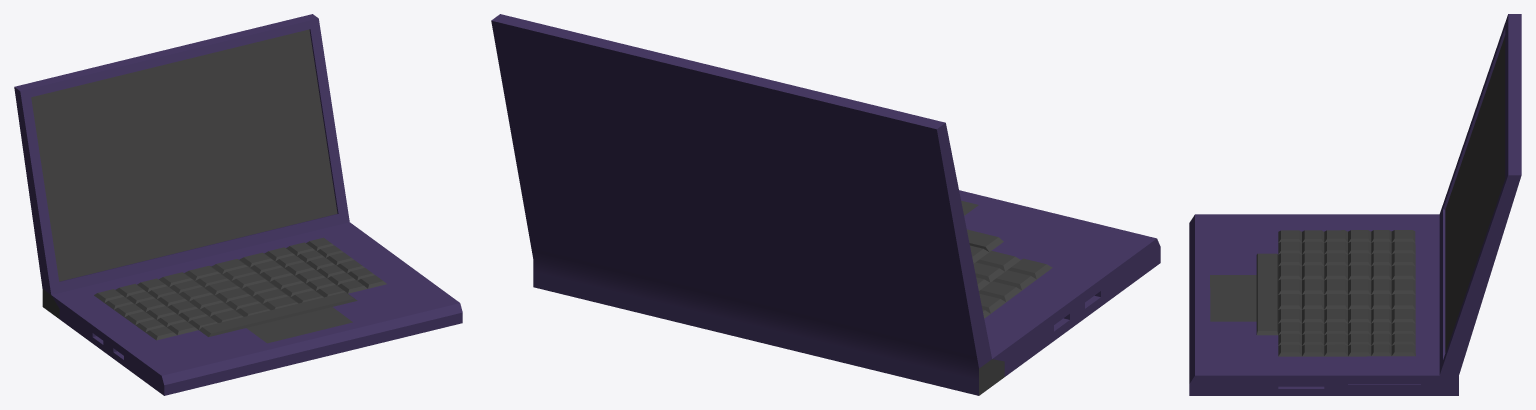
The model's file is laptop.fbx.
3 views of the same model, side by side, from view 1: azimuth 30°, elevation 25°; view 2: azimuth 150°, elevation 25°; view 3: azimuth 270°, elevation 25° (orthographic). The views are drawn at different scales.
Visible parts, largest first — view 1: pCube1; view 2: pCube1; view 3: pCube1.
Part boxes in pixels (bbox=[...]): pCube1: bbox=[14, 14, 462, 395]; pCube1: bbox=[491, 14, 1160, 395]; pCube1: bbox=[1189, 14, 1521, 395].
Bounding box in the file's own units: 4.11 × 2.61 × 3.56.
